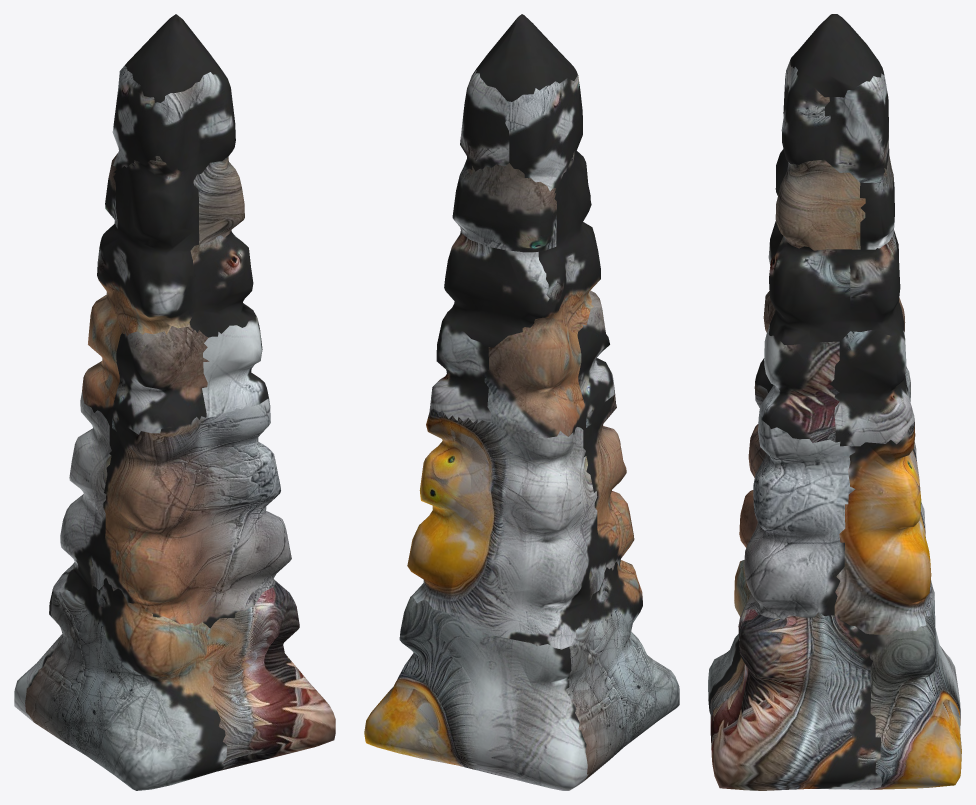
File: obelisk.obj
3 renders of one model, left to right at view 1: azimuth 30°, elevation 25°; view 2: azimuth 150°, elevation 25°; view 3: azimuth 270°, elevation 25°, orthographic. The views are drawn at different scales.
Visible parts, largest first — view 1: Mesh_0; view 2: Mesh_0; view 3: Mesh_0.
Boxes of the visible parts, bbox=[...] form: Mesh_0: bbox=[14, 14, 335, 790]; Mesh_0: bbox=[364, 14, 679, 790]; Mesh_0: bbox=[708, 14, 961, 790].
Bounding box in the file's own units: 0.3733 × 1.2 × 0.3735.
